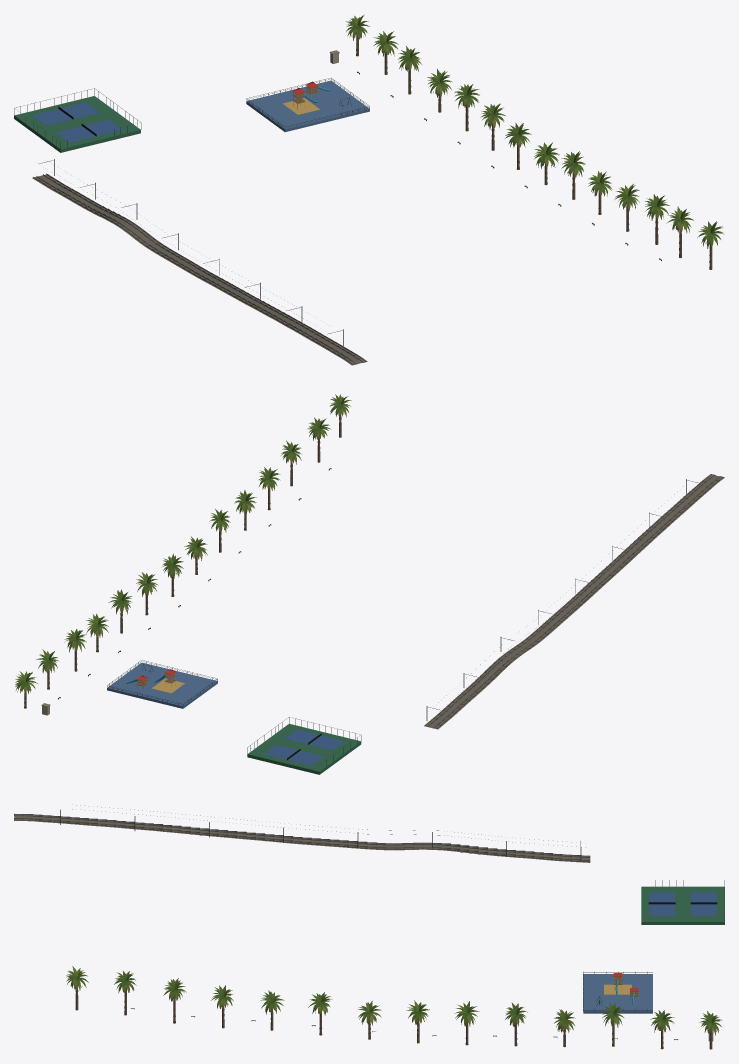
File: doloresPark_lod0.glb
3 renders of one model, top to bottom at view 1: azimuth 30°, elevation 25°; view 2: azimuth 150°, elevation 25°; view 3: azimuth 270°, elevation 25°, orthographic. The views are drawn at different scales.
Visible parts, largest first — view 1: L0_concrete, L0_leaf, L0_metal, L0_bark, L0_wood; view 2: L0_concrete, L0_leaf, L0_metal, L0_bark, L0_wood; view 3: L0_concrete, L0_leaf, L0_metal, L0_bark, L0_wood.
Part boxes in pixels (left/top/right/bottom): L0_concrete: left=14, top=80, right=369, bottom=365; L0_leaf: left=345, top=14, right=724, bottom=248; L0_metal: left=14, top=72, right=661, bottom=364; L0_bark: left=356, top=26, right=712, bottom=269; L0_wood: left=37, top=71, right=661, bottom=365; L0_concrete: left=107, top=474, right=724, bottom=774; L0_leaf: left=15, top=394, right=351, bottom=693; L0_metal: left=58, top=469, right=723, bottom=766; L0_bark: left=24, top=404, right=341, bottom=708; L0_wood: left=58, top=468, right=724, bottom=725; L0_concrete: left=14, top=814, right=724, bottom=1013; L0_leaf: left=66, top=966, right=722, bottom=1035; L0_metal: left=14, top=805, right=724, bottom=1038; L0_bark: left=75, top=978, right=712, bottom=1049; L0_wood: left=14, top=813, right=678, bottom=1039.
Bounding box in the file's own units: 182 × 39.17 × 306.
